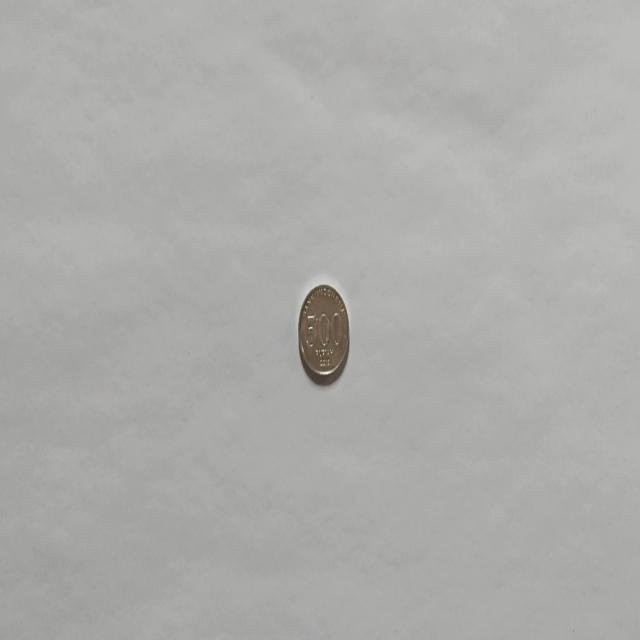lima ratus rupiah: (297, 282, 350, 385)
